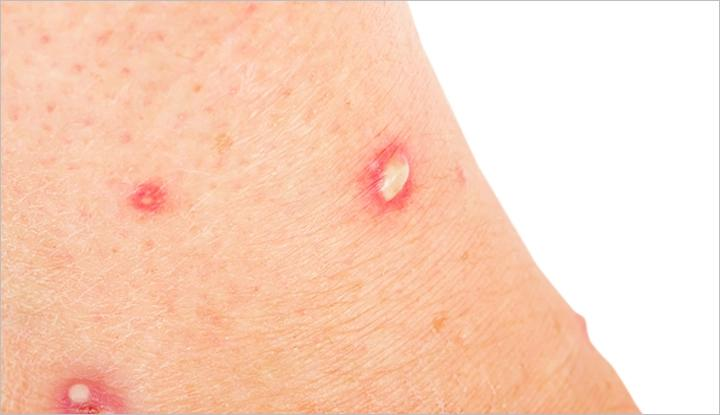Fire-Ant: (330, 102, 445, 228), (39, 366, 133, 415), (122, 162, 184, 233)
